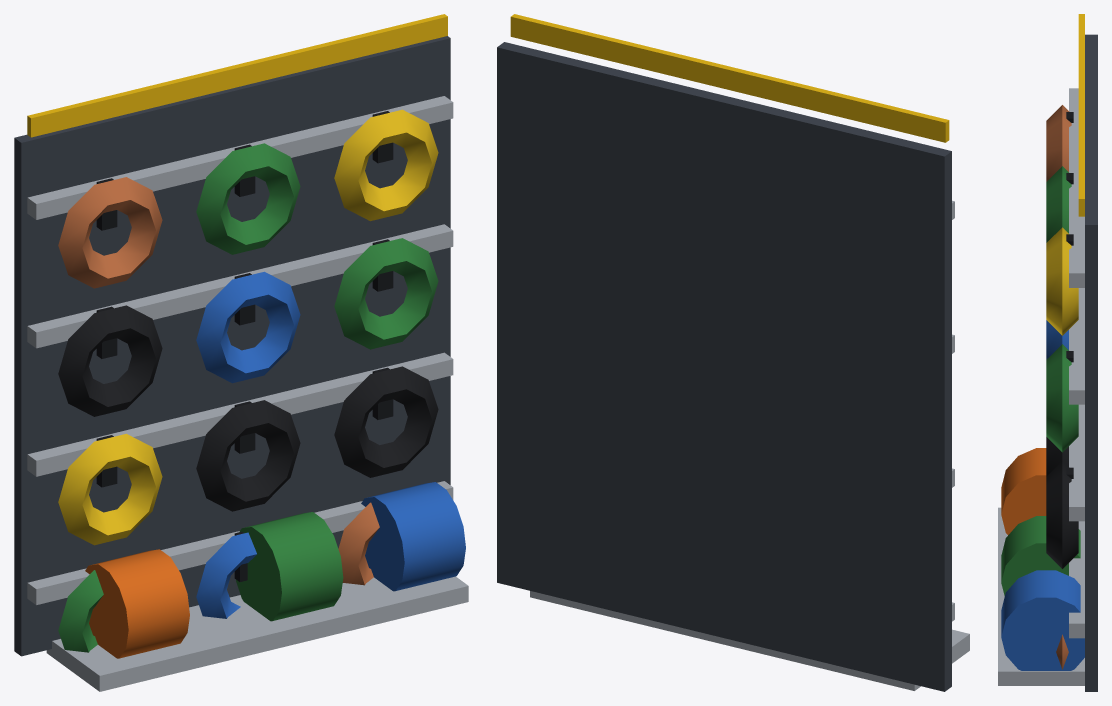
The model's file is shelving_hanging_cable_rack.glb.
The picture shows the model from 3 angles, left to right: view 1: azimuth 30°, elevation 25°; view 2: azimuth 150°, elevation 25°; view 3: azimuth 270°, elevation 25°; orthographic projection. The views are drawn at different scales.
Visible parts, largest first — view 1: shelving_hanging_cable_rack; view 2: shelving_hanging_cable_rack; view 3: shelving_hanging_cable_rack.
Part boxes in pixels (<box>): shelving_hanging_cable_rack: <box>14,14,468,691</box>; shelving_hanging_cable_rack: <box>497,14,969,691</box>; shelving_hanging_cable_rack: <box>998,14,1097,691</box>.
Size of the model in its own units: 1.4 by 1.75 by 0.31.
